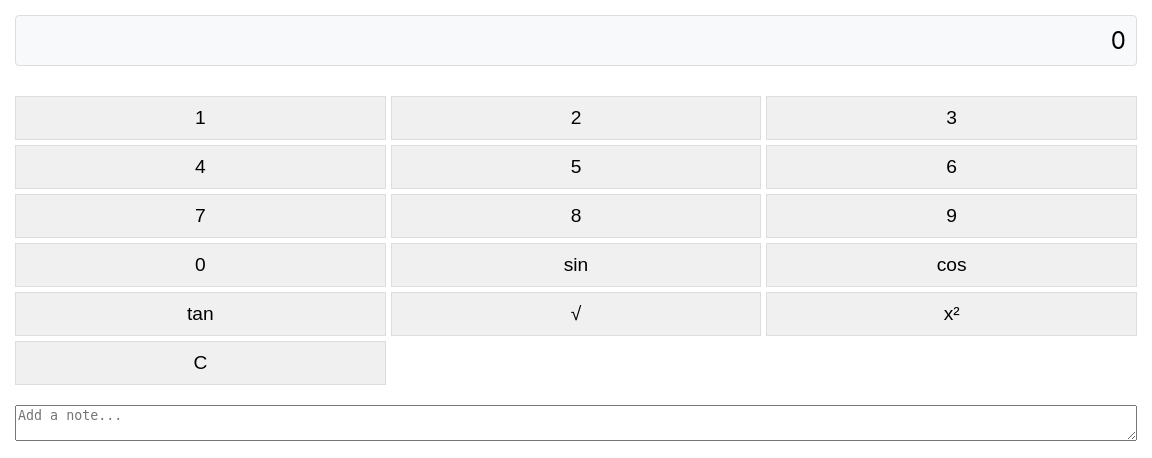
ScientificCalculator Component › calculates square root correctly
This screenshot has width=1152, height=458.
What coordinates should you click on to do the following:
click the button "1"
I would click on:
 (200, 118)
Its box is [15,96,386,140].
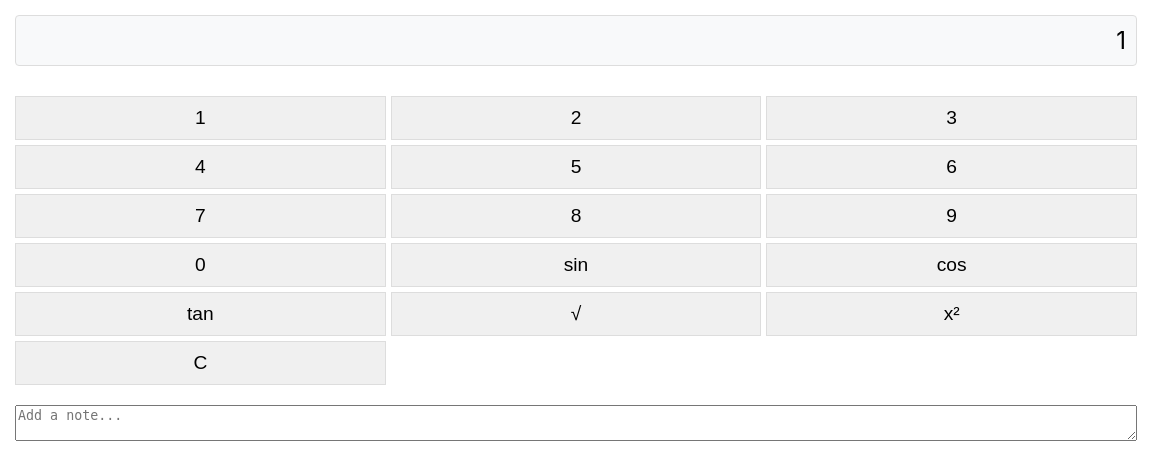
What coordinates should you click on to do the following:
click the button "6"
I would click on:
 (952, 167)
Its box is [766,145,1137,189].
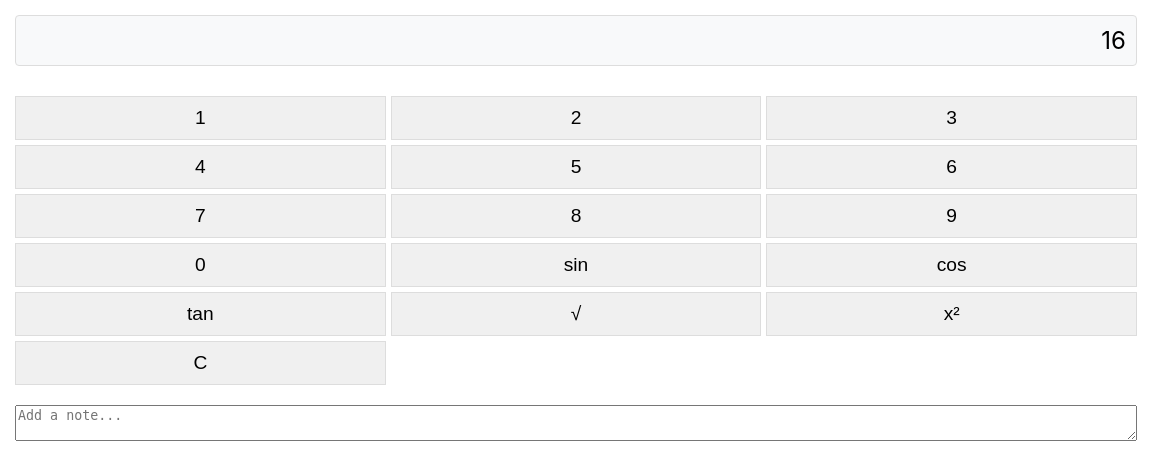
What coordinates should you click on to do the following:
click the button "√"
I would click on:
 (576, 314)
Its box is [391,292,761,336].
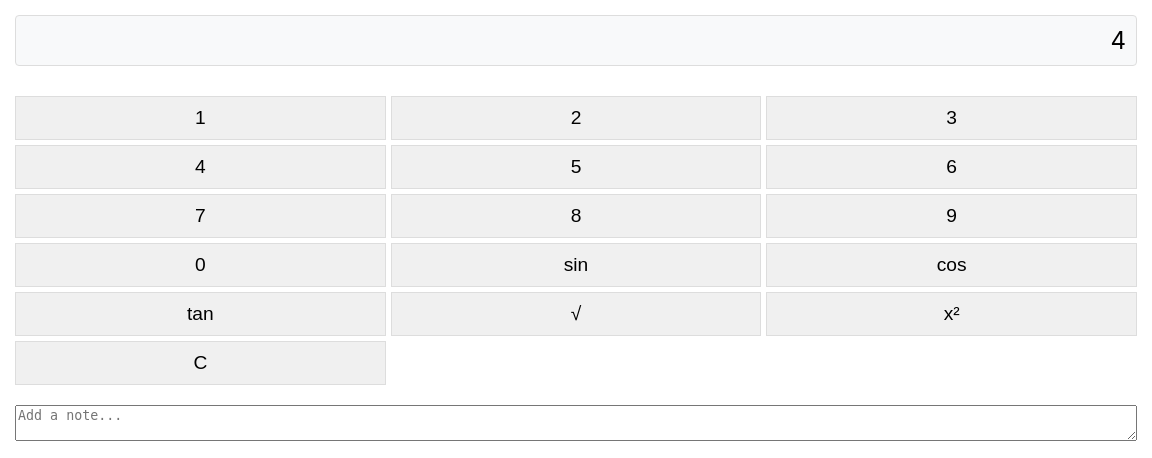
Expected: the text with test id "calculator-display" reads "4", [1110,26,1126,55]
